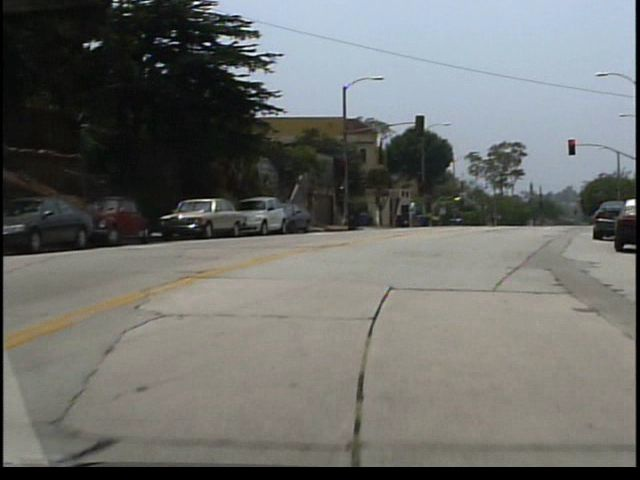person: (411, 199, 423, 230)
